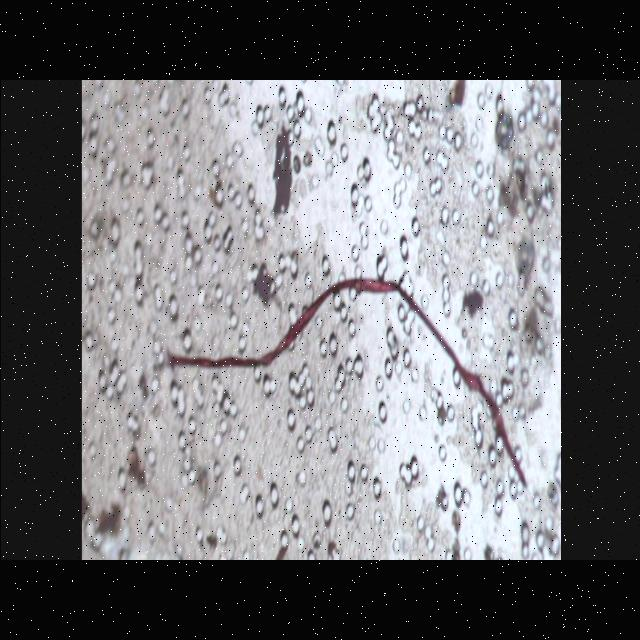Fibre: (155, 249, 528, 499)
